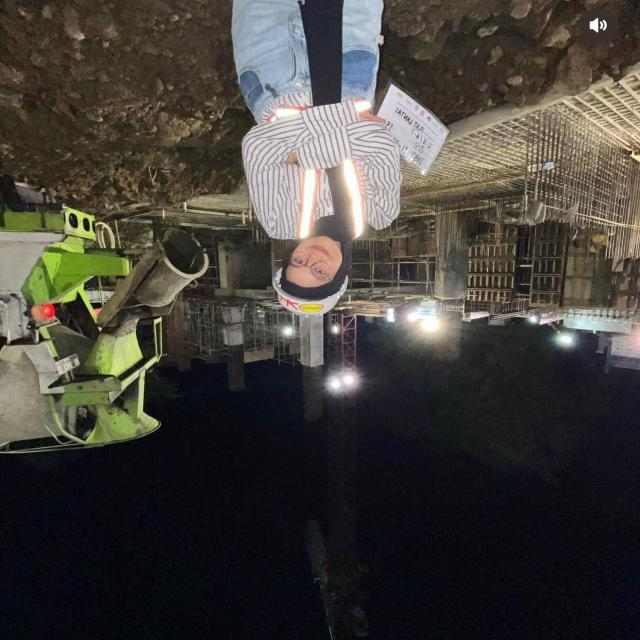safetyhelmet: (268, 227, 358, 318)
